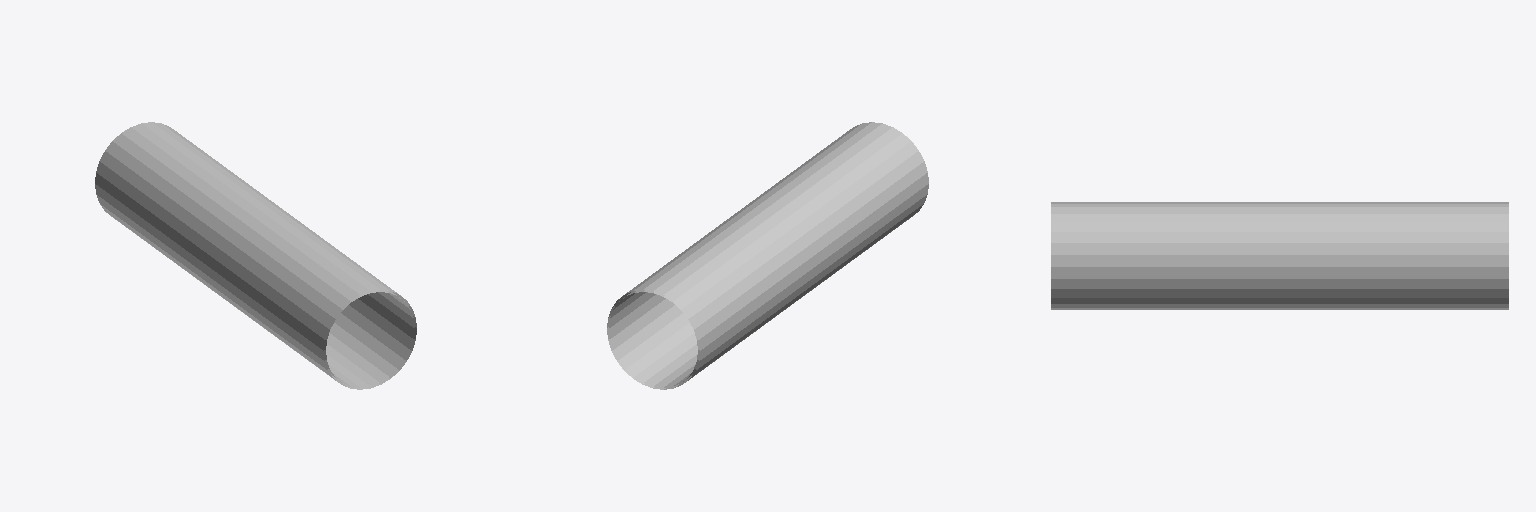
File: TUBESOLIDENTRENCE.obj
3 views of the same model, side by side, from view 1: azimuth 30°, elevation 25°; view 2: azimuth 150°, elevation 25°; view 3: azimuth 270°, elevation 25° (orthographic).
Visible parts, largest first — view 1: TUBESOLIDENTRENCE; view 2: TUBESOLIDENTRENCE; view 3: TUBESOLIDENTRENCE.
Part boxes in pixels (x1,y1,x2,y2): TUBESOLIDENTRENCE: (95, 122, 416, 389); TUBESOLIDENTRENCE: (607, 122, 928, 389); TUBESOLIDENTRENCE: (1051, 202, 1508, 309).
Bounding box in the file's own units: 3.18 × 3.18 × 13.57.